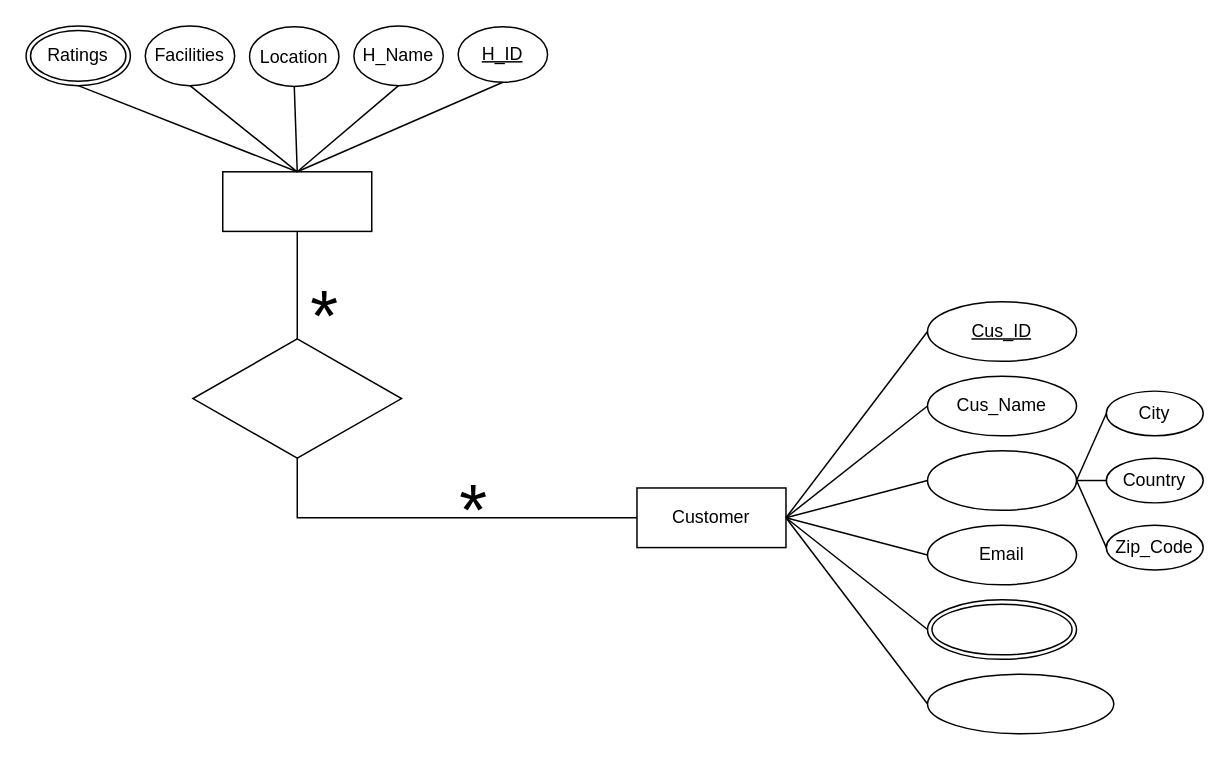
The diagram is 1229 pixels wide and 760 high, and some of its shapes have lost their labels. Here are the shapes that lost their labels. From the top down, the centre of each, then its label:
At [296,200]: "Hotel".
At [296,397]: "Makes_Reservation".
At [1001,479]: "Address".
At [1001,628]: "Phone_No".
At [1020,703]: "Membership_Level".
